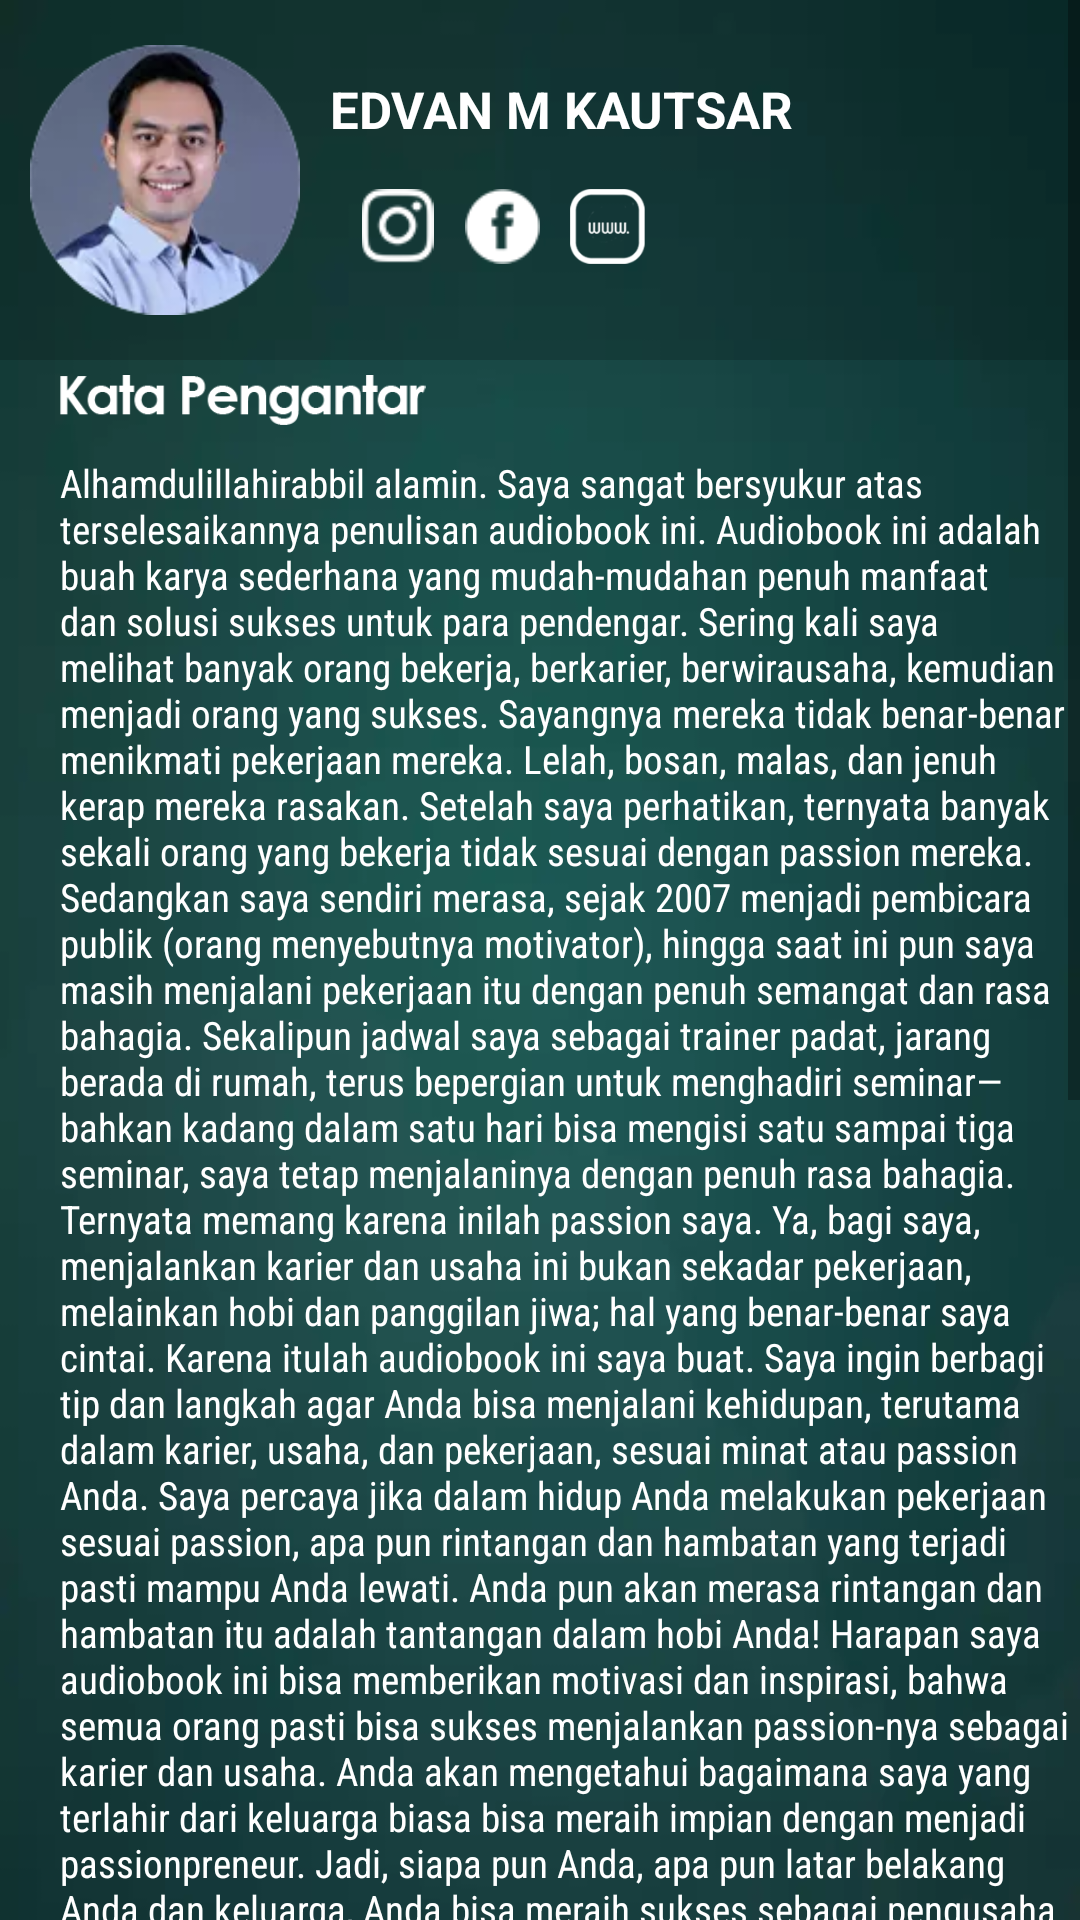

Icon bounding boxes for this 1080x1920 phone screenshot, format detection(x1, y1, x2, y2):
iconwebsite: detection(570, 189, 645, 264)
photopenulis: detection(30, 45, 300, 315)
